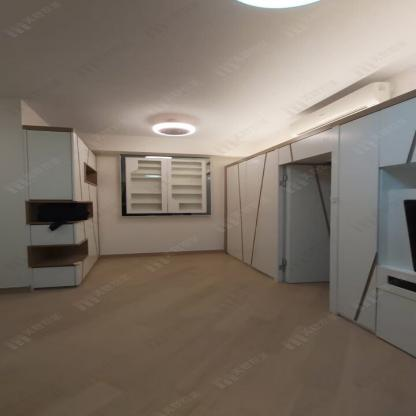AC: (288, 81, 393, 138)
Cupboard: (21, 123, 99, 292)
